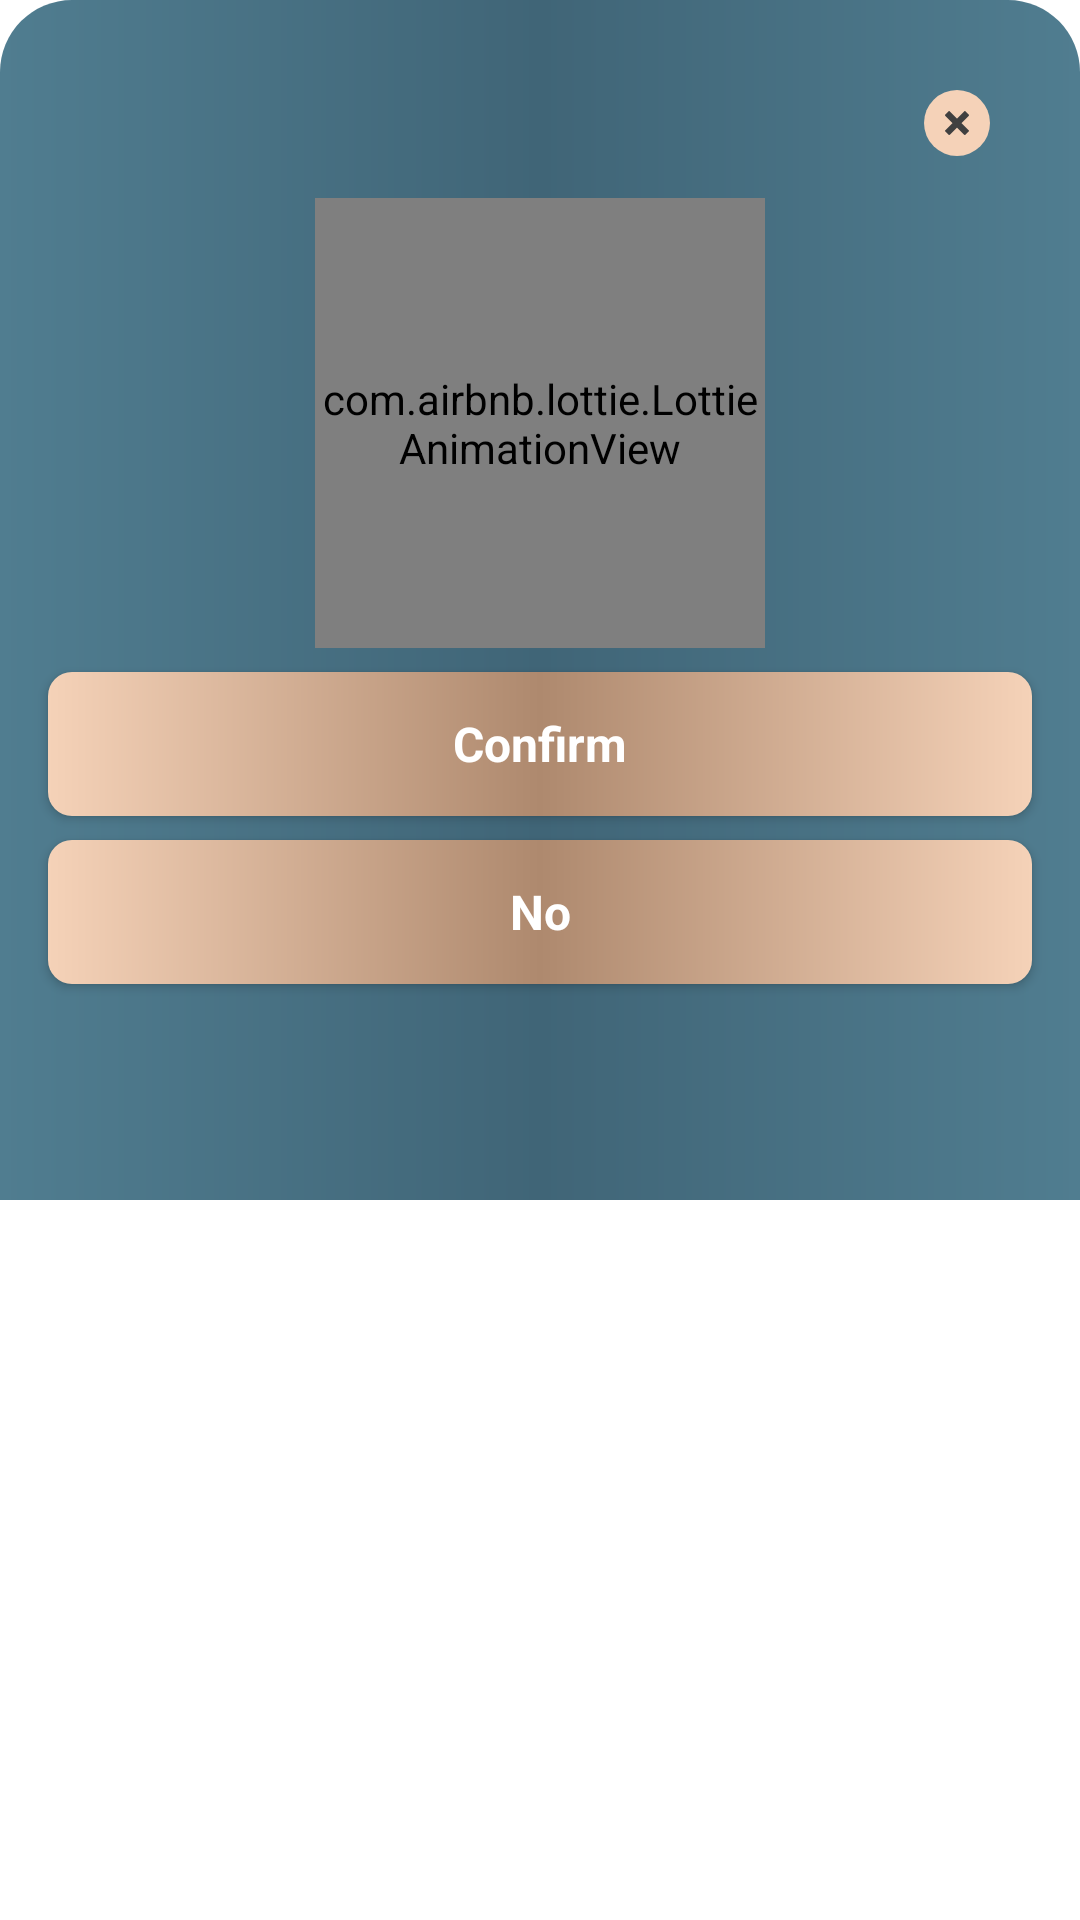

Named icons in this screenshot (1080×1920) and their bounding boxes, bbox=[x1, y1, x2, y2]:
cancel dialog: bbox=[924, 90, 990, 156]
